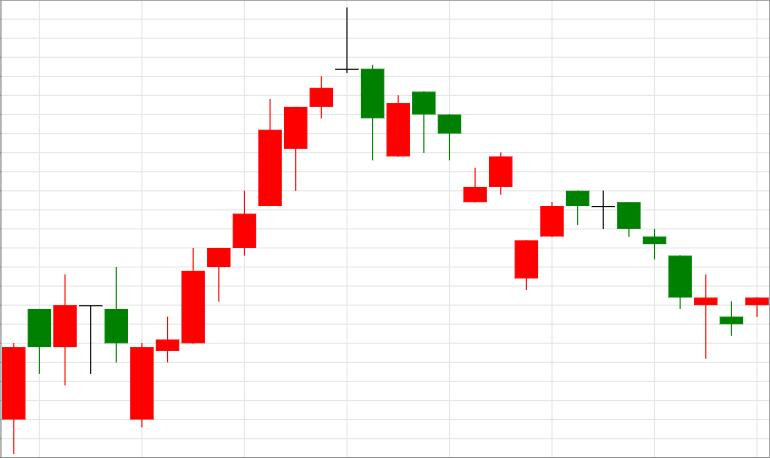evening_star_fall: (130, 8, 383, 426)
